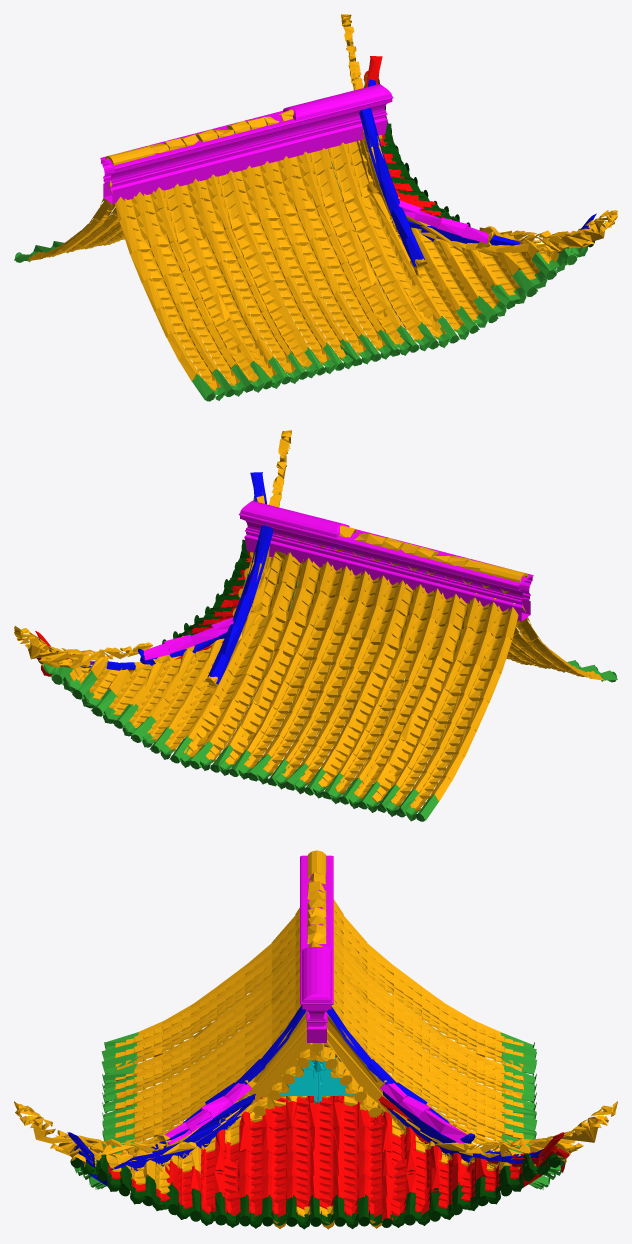
The model's file is sm_Oriental_tiles_a1_LOD.FBX.
3 views of the same model, one above another, from view 1: azimuth 30°, elevation 25°; view 2: azimuth 150°, elevation 25°; view 3: azimuth 270°, elevation 25° (orthographic). The views are drawn at different scales.
Parts seen in each view (by area): view 1: polySurface4; view 2: polySurface4; view 3: polySurface4.
Part boxes in pixels (x1,y1,x2,y2): polySurface4: [14, 14, 617, 401]; polySurface4: [14, 430, 617, 821]; polySurface4: [14, 850, 617, 1229].
Bounding box in the file's own units: 545 × 669 × 253.
